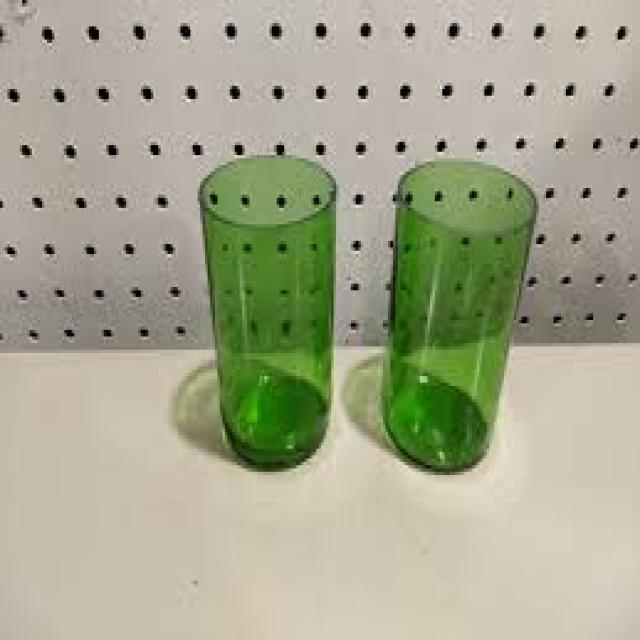glass: (381, 155, 536, 469), (195, 152, 336, 465)
